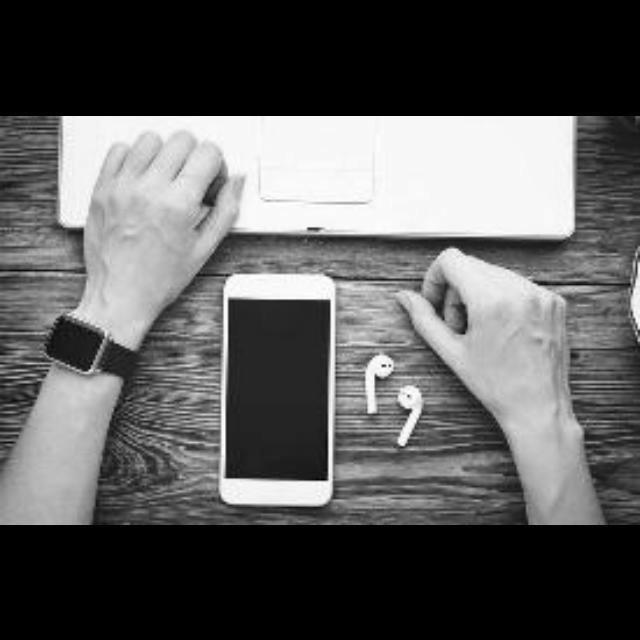fake: (222, 274, 336, 503)
